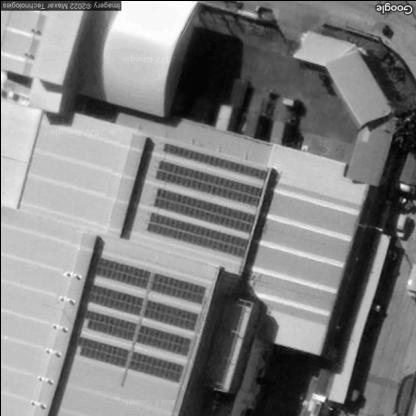solar-pv-panel: (155, 159, 261, 206), (146, 212, 246, 258), (152, 189, 254, 232), (160, 144, 266, 180), (86, 284, 143, 316), (92, 255, 148, 287), (135, 324, 190, 355), (74, 336, 127, 368), (126, 352, 181, 381), (142, 301, 195, 331), (150, 273, 204, 302), (82, 309, 135, 338)
